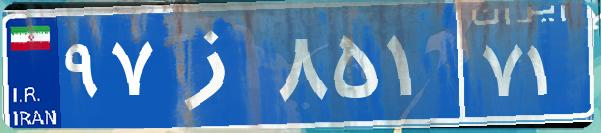1: (385, 28, 445, 110), (525, 38, 570, 115)
5: (330, 28, 385, 110)
7: (475, 38, 525, 113), (110, 28, 158, 105)
8: (273, 28, 330, 110)
9: (57, 26, 110, 107)
ز: (158, 15, 273, 115)
